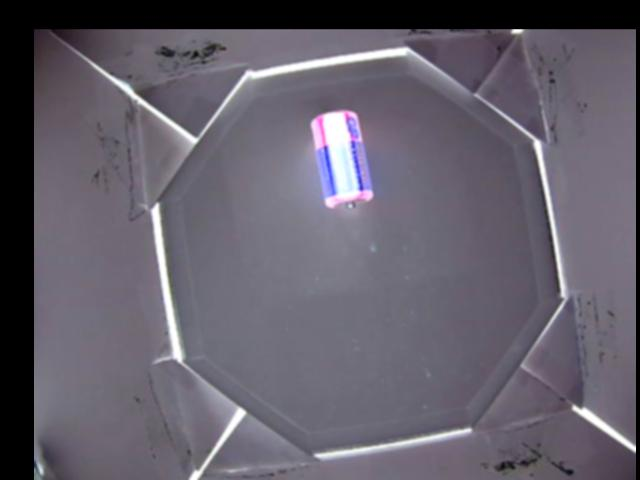Battery: (309, 111, 373, 210)
